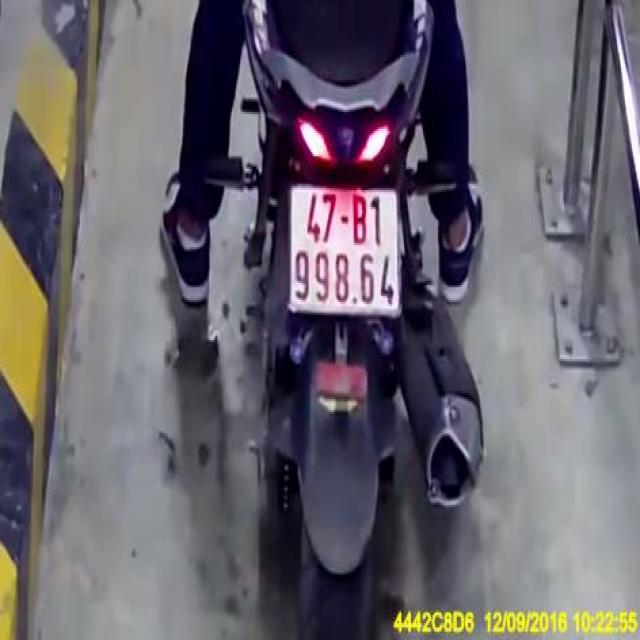1: (370, 190, 386, 246)
4: (381, 251, 395, 306), (309, 190, 321, 247)
6: (358, 247, 375, 303)
7: (323, 190, 339, 245)
8: (334, 247, 351, 307)
9: (291, 246, 311, 304), (316, 248, 334, 304)
B: (349, 188, 368, 247)
